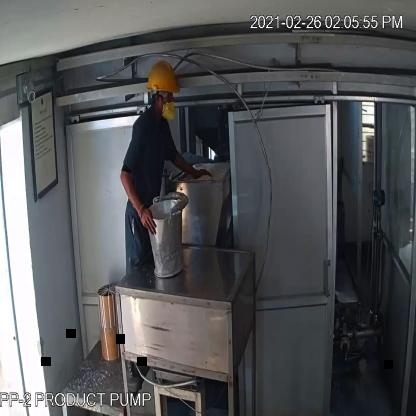helmet: (144, 56, 184, 100)
